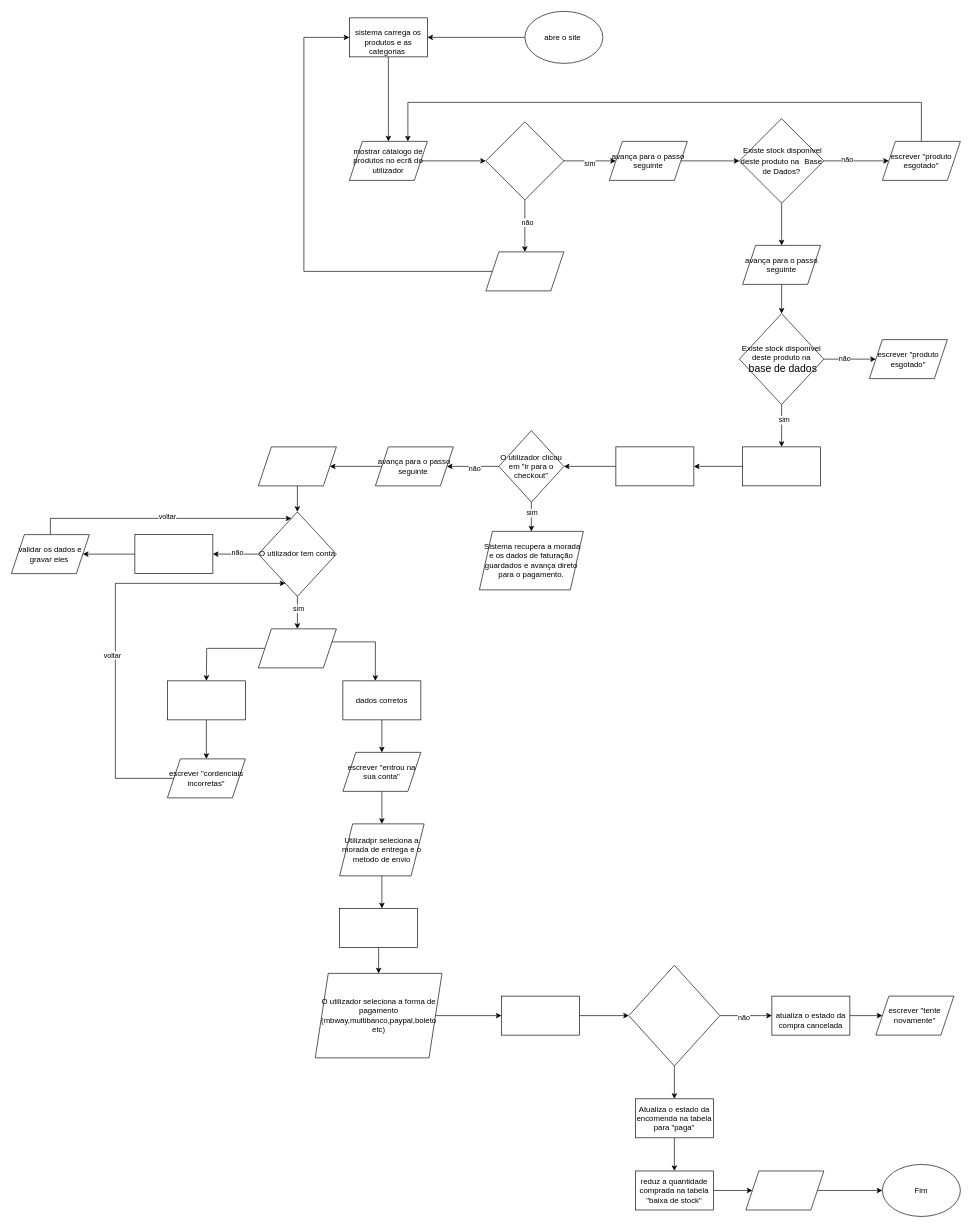
Some shapes in this 972 by 1228 pixel diagram are drawn without their labels. Here are the shapes that lost their labels. From the top down, the box of each, then its label:
(485, 121, 564, 200): O utilizador pesquisou ou clicou num produto específico?
(485, 251, 564, 291): volte para o inicio
(258, 446, 336, 486): escrever "ecrã de login"
(615, 446, 694, 486): Atualiza o valor total do carrinho
(742, 446, 821, 486): Adicionar o ID do produto à sessão/carrinho do utilizador
(134, 534, 213, 574): preencher formulário de registo
(258, 628, 336, 668): escrever "email e password"
(167, 680, 245, 720): dados incoretos
(339, 908, 418, 947): O sistema calcular os valores do portes de envio
(501, 995, 579, 1035): O sistema faz um pedido HTTP
(628, 965, 720, 1066): O gateway do pagamento respondeu com sucesso
(745, 1170, 824, 1210): escrever "obrigado a sua encomenda foi registada
